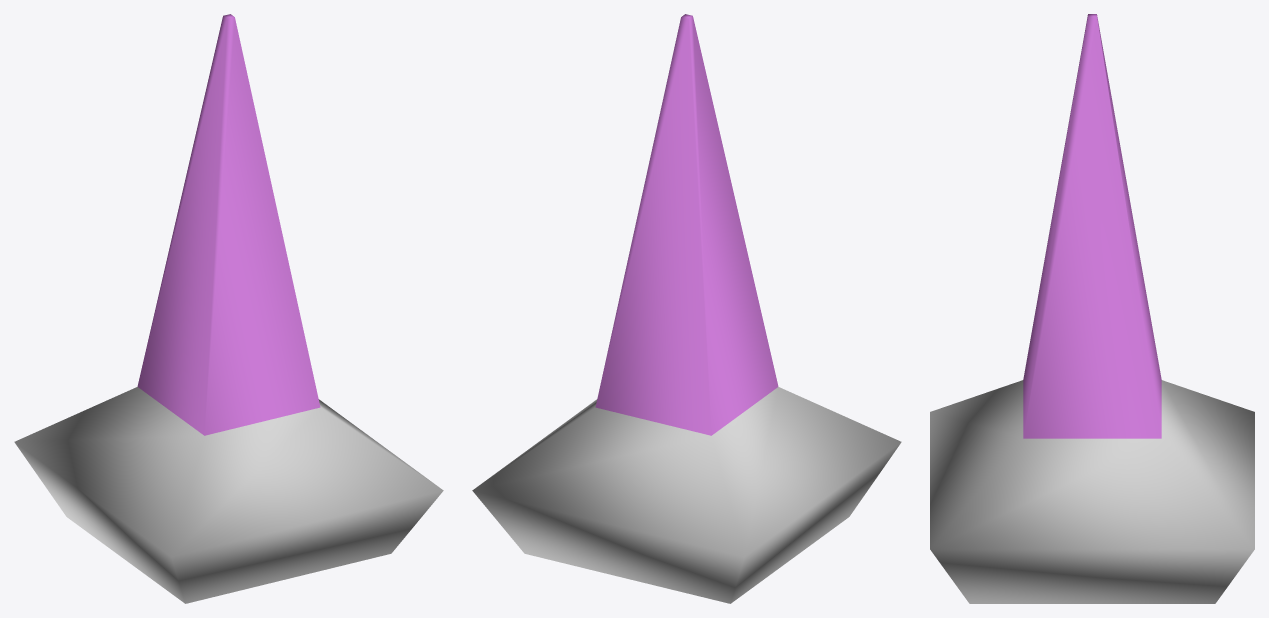
Rendered from freezer.fbx.
The picture shows the model from 3 angles, left to right: view 1: azimuth 30°, elevation 25°; view 2: azimuth 150°, elevation 25°; view 3: azimuth 270°, elevation 25°; orthographic projection. The views are drawn at different scales.
Visible parts, largest first — view 1: Cube; view 2: Cube; view 3: Cube.
Part boxes in pixels (box(x1,y1,x2,y2)): Cube: box(14, 14, 443, 603); Cube: box(472, 14, 901, 603); Cube: box(930, 14, 1254, 603).
Bounding box in the file's own units: 0.4443 × 0.8088 × 0.4443.
